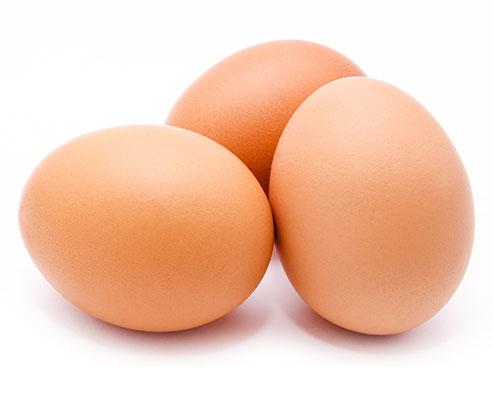egg: (265, 69, 478, 340), (12, 121, 280, 336), (164, 36, 370, 189)
